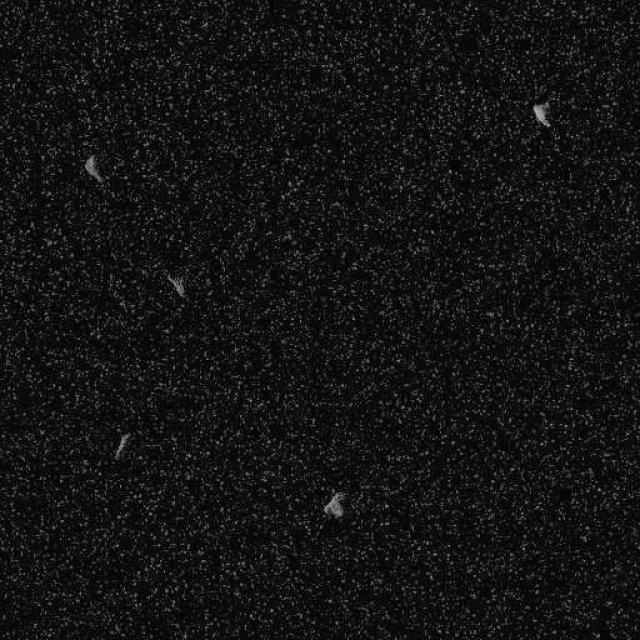D2: (83, 152, 105, 184), (323, 490, 345, 519), (112, 430, 132, 460), (531, 100, 551, 128), (165, 272, 186, 298)
